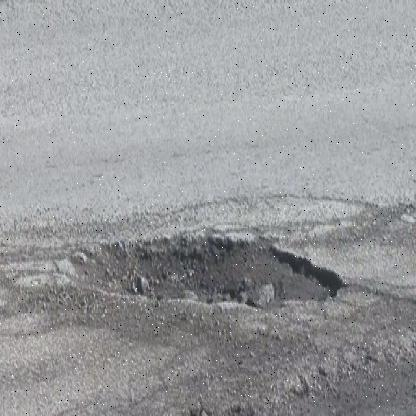pothole: (62, 192, 362, 351)
